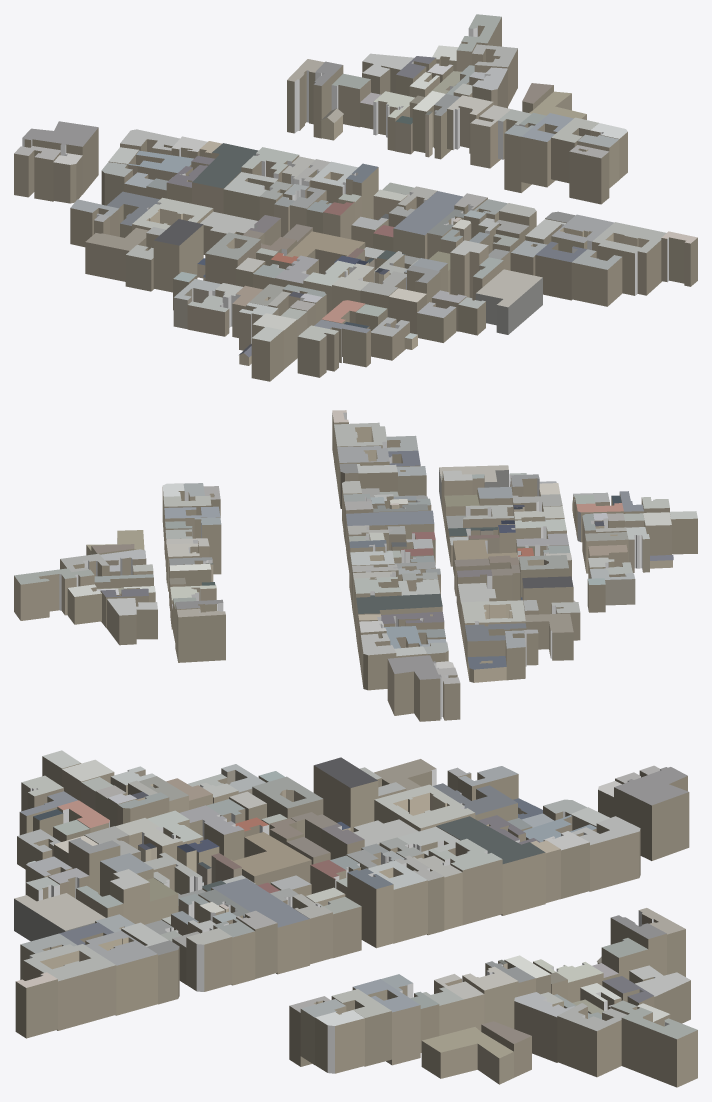
3 views of the same model, one above another, from view 1: azimuth 30°, elevation 25°; view 2: azimuth 150°, elevation 25°; view 3: azimuth 270°, elevation 25° (orthographic). The views are drawn at different scales.
Parts seen in each view (by area): view 1: tuile; view 2: tuile; view 3: tuile.
Part boxes in pixels (box(x1,y1,x2,y2)): tuile: box(14, 14, 697, 381); tuile: box(14, 410, 697, 721); tuile: box(14, 750, 697, 1087).
Bounding box in the file's own units: 278 × 32 × 268.
